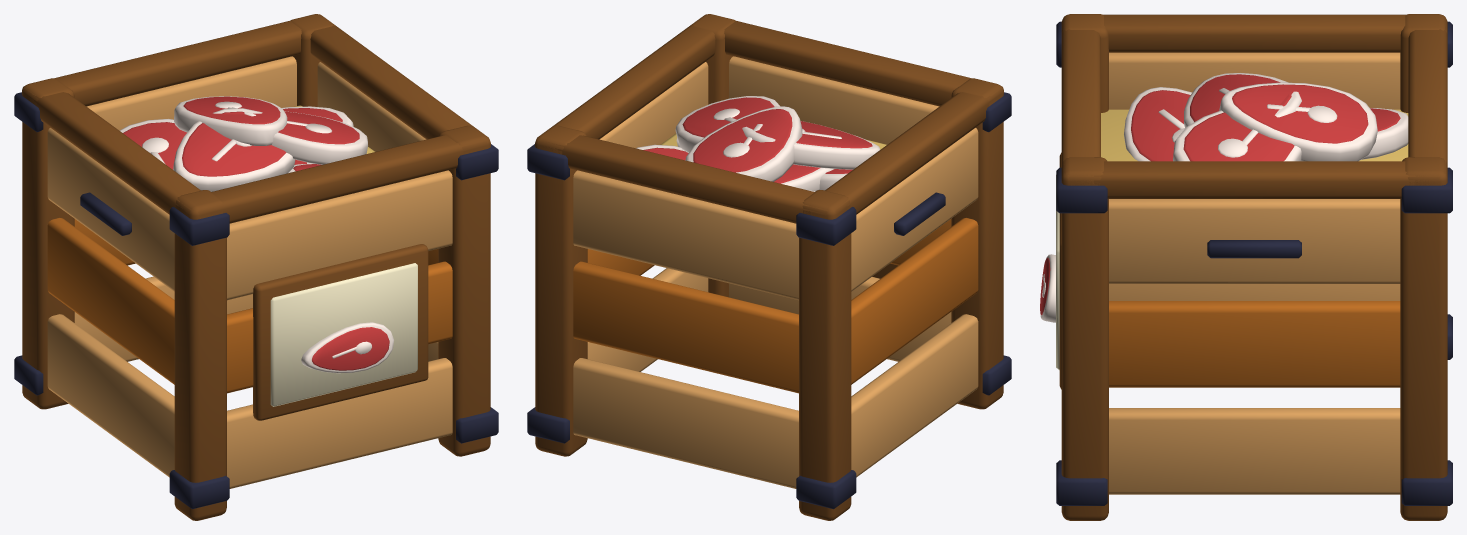
Rendered from crate_meat.gltf.
3 renders of one model, left to right at view 1: azimuth 30°, elevation 25°; view 2: azimuth 150°, elevation 25°; view 3: azimuth 270°, elevation 25°, orthographic. The views are drawn at different scales.
Visible parts, largest first — view 1: crate_meat; view 2: crate_meat; view 3: crate_meat.
Part boxes in pixels (x1,y1,x2,y2): crate_meat: [14, 14, 498, 520]; crate_meat: [527, 14, 1011, 520]; crate_meat: [1040, 14, 1452, 520].
Size of the model in its own units: 1.02 by 0.98 by 1.05.
